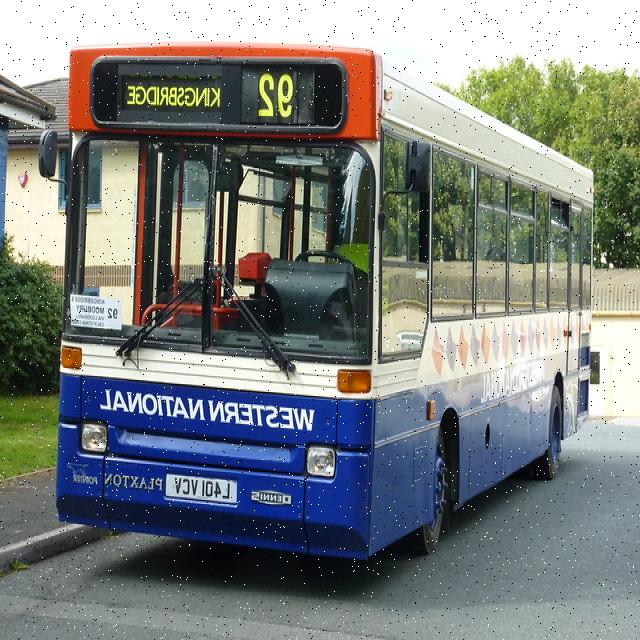Bus: (52, 46, 593, 550)
